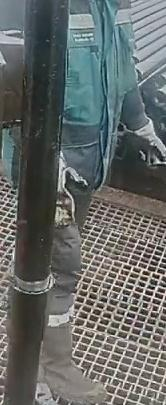gloves: (53, 150, 92, 227), (131, 108, 166, 172)
vest: (0, 0, 137, 196)
